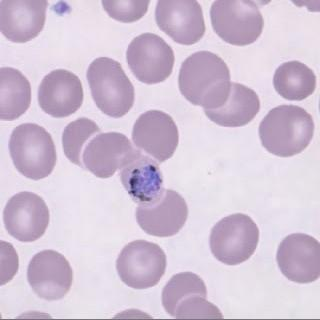Infected: (120, 157, 165, 204)
Uninfected: (86, 56, 136, 117), (177, 50, 229, 106), (258, 105, 312, 157), (7, 123, 56, 179), (125, 32, 174, 83), (209, 214, 258, 264), (204, 83, 259, 127), (115, 240, 165, 288), (2, 191, 49, 242), (131, 110, 178, 161), (136, 190, 187, 237), (210, 0, 263, 45), (82, 132, 132, 178), (26, 249, 71, 299), (275, 233, 320, 283), (37, 69, 83, 117), (155, 0, 204, 44), (62, 118, 99, 168), (161, 272, 206, 313), (271, 59, 315, 100), (0, 0, 43, 41)
